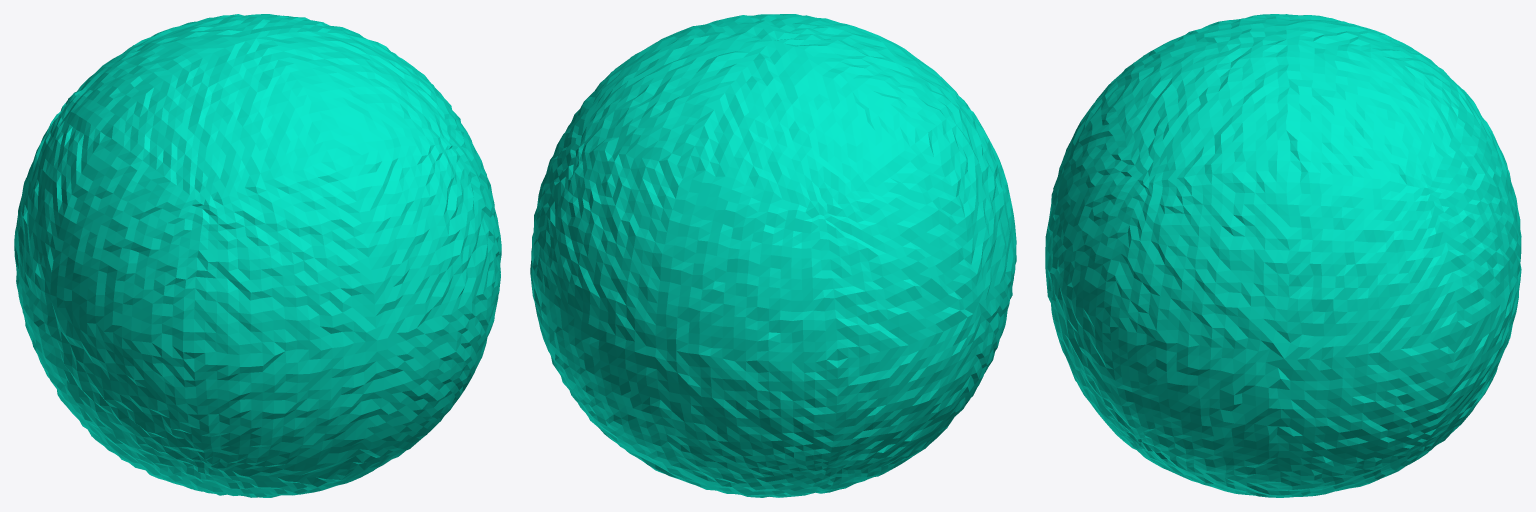
Rendered from Sea21.fbx.
3 views of the same model, side by side, from view 1: azimuth 30°, elevation 25°; view 2: azimuth 150°, elevation 25°; view 3: azimuth 270°, elevation 25° (orthographic).
Parts seen in each view (by area): view 1: pCube1; view 2: pCube1; view 3: pCube1.
Boxes of the visible parts, x1,y1,x2,y2 form: pCube1: [14, 14, 501, 497]; pCube1: [530, 14, 1016, 497]; pCube1: [1045, 14, 1521, 497].
Bounding box in the file's own units: 40 × 39.95 × 39.91.
